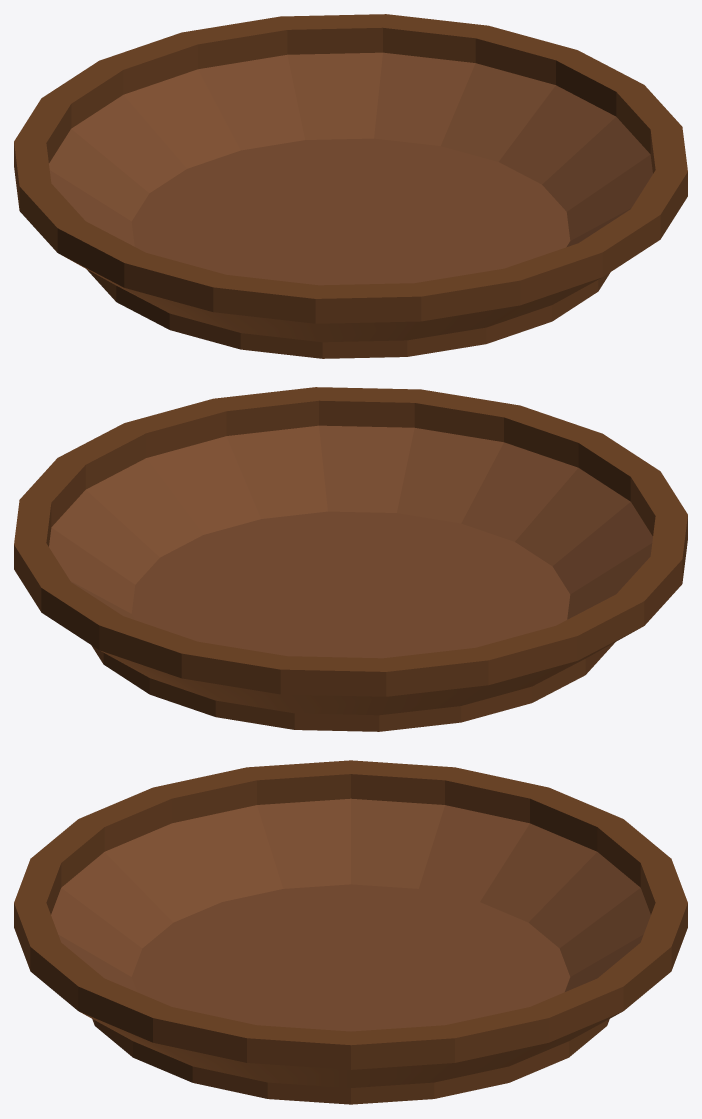
The model's file is plate.fbx.
3 views of the same model, one above another, from view 1: azimuth 30°, elevation 25°; view 2: azimuth 150°, elevation 25°; view 3: azimuth 270°, elevation 25° (orthographic).
Visible parts, largest first — view 1: plate; view 2: plate; view 3: plate.
Boxes of the visible parts, x1=… form: plate: x1=14, y1=14, x2=687, y2=358; plate: x1=14, y1=387, x2=687, y2=731; plate: x1=14, y1=760, x2=687, y2=1104.
Bounding box in the file's own units: 6.61 × 0.9524 × 6.61.
